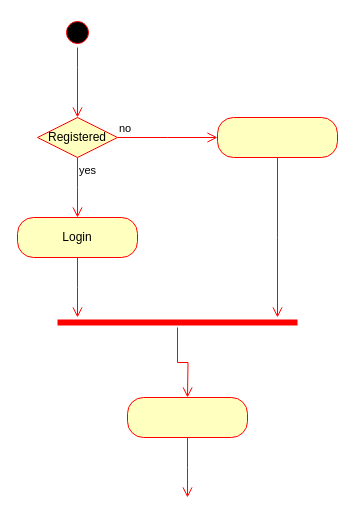
Image size: 355x525. Some labels were removed from this diagram. Each missing label, with the centre of its shape:
"Post" belongs at point (187, 417).
"Register" belongs at point (277, 137).
